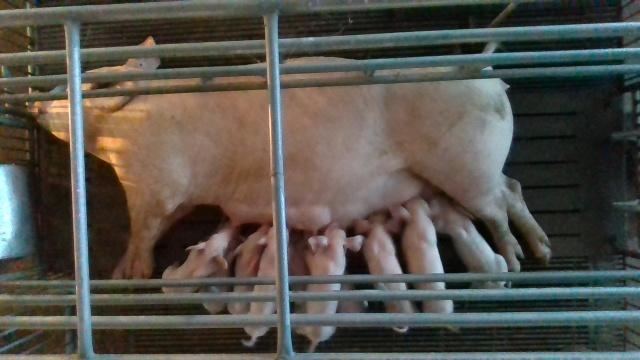piglet: (292, 218, 363, 352), (427, 195, 512, 288), (388, 196, 454, 312), (356, 213, 417, 332), (163, 223, 236, 293), (242, 225, 275, 346), (228, 224, 271, 315)
sow-sleep-lactate: (29, 35, 553, 281)
